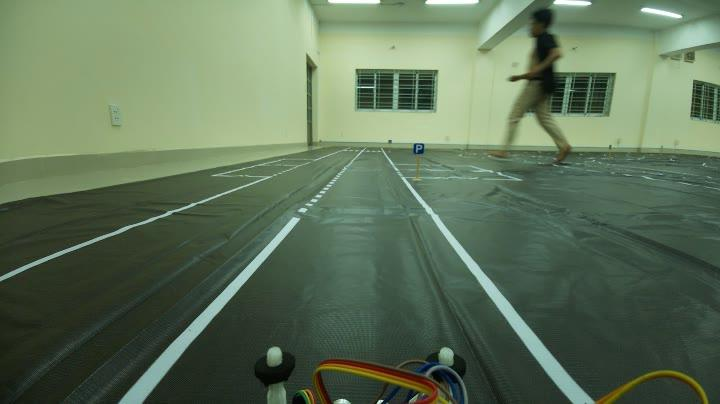parking: (407, 137, 430, 159)
